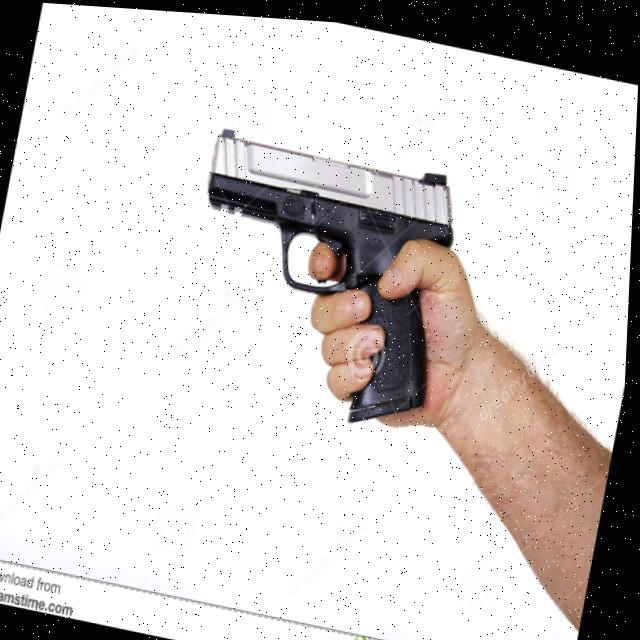pistol: (167, 116, 472, 438)
